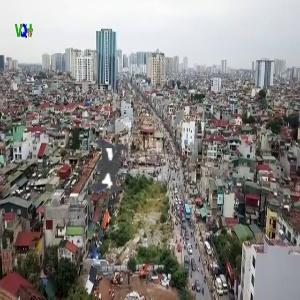drone: (44, 98, 178, 232)
